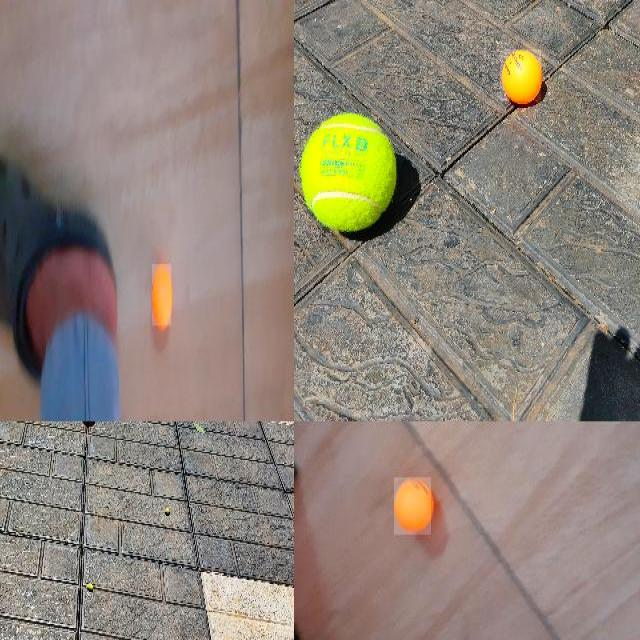ping-pong-ball: (500, 49, 542, 103), (394, 477, 432, 536), (151, 264, 172, 327)
